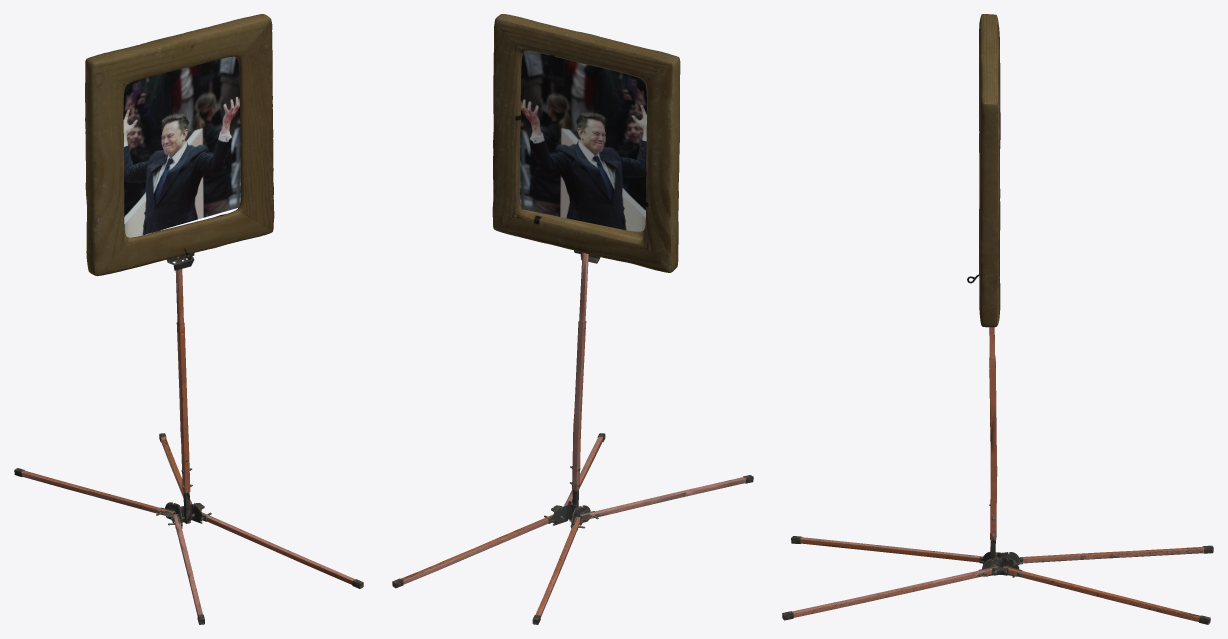
Rendered from frame3.glb.
The picture shows the model from 3 angles, left to right: view 1: azimuth 30°, elevation 25°; view 2: azimuth 150°, elevation 25°; view 3: azimuth 270°, elevation 25°; orthographic projection. The views are drawn at different scales.
Parts seen in each view (by area): view 1: Empty.005; view 2: Empty.005; view 3: Empty.005.
Boxes of the visible parts, box(x1,y1,x2,y2) form: Empty.005: box(14, 14, 363, 624); Empty.005: box(392, 14, 753, 624); Empty.005: box(782, 14, 1213, 624).
Bounding box in the file's own units: 1.06 × 2.78 × 2.08.
3 materials, 3 textured.
